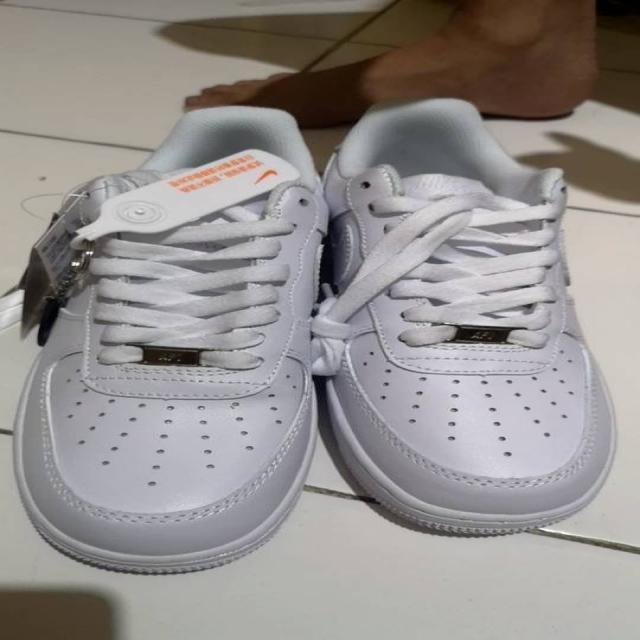nike original air force: (3, 104, 320, 578), (294, 90, 622, 538)
